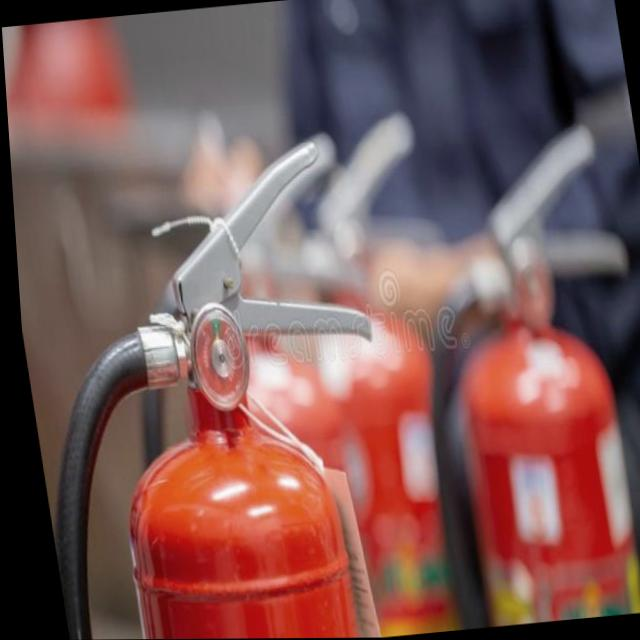FireExtinguisher: (7, 126, 416, 640), (378, 117, 640, 630)
